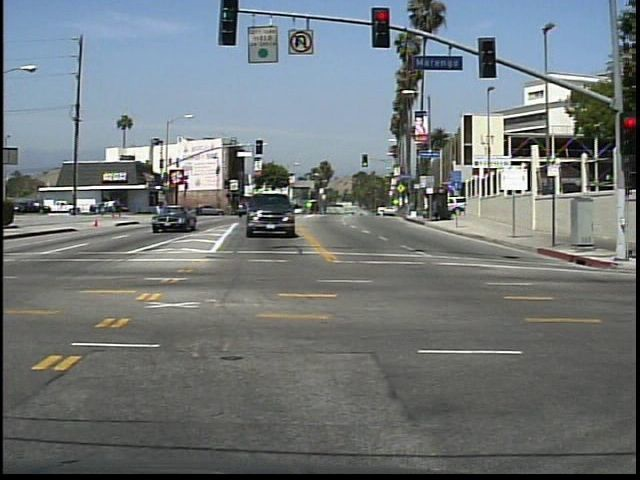person: (112, 194, 126, 221)
